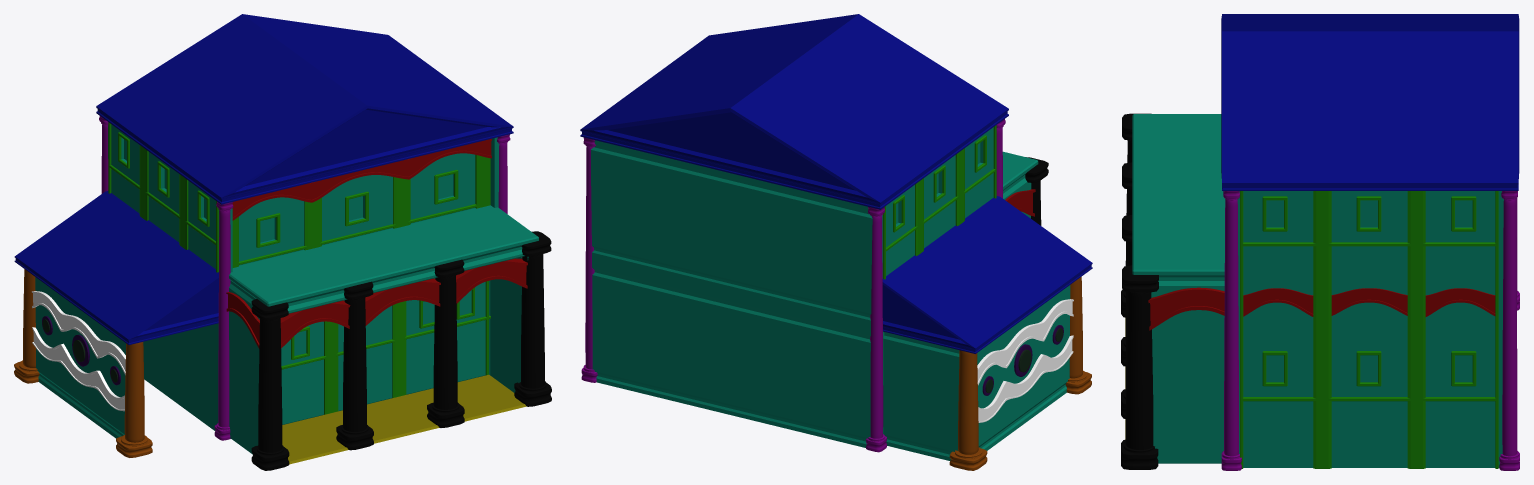
File: Textured Roman Building.fbx
The picture shows the model from 3 angles, left to right: view 1: azimuth 30°, elevation 25°; view 2: azimuth 150°, elevation 25°; view 3: azimuth 270°, elevation 25°; orthographic projection. The views are drawn at different scales.
Parts seen in each view (by area): view 1: pCube115, Temple_Top_Asset:pCube1, pCube1, Colomns, pPlane1, pCube63, pCube12, pCube104, pCube114, pCube106, pCube103, pCube13 (+3 smaller); view 2: pCube115, Temple_Top_Asset:pCube1, pCube1, pCube114, pCube106, pCube103, pCube107, Colomns; view 3: pCube115, Temple_Top_Asset:pCube1, pCube111, pCube114, Colomns, pCube87, pCube116, pCube14.
Part boxes in pixels (bbox=[...]): pCube115: bbox=[35, 124, 538, 454]; Temple_Top_Asset:pCube1: bbox=[96, 14, 513, 204]; pCube1: bbox=[14, 191, 218, 344]; Colomns: bbox=[251, 231, 551, 470]; pPlane1: bbox=[282, 374, 526, 464]; pCube63: bbox=[232, 155, 490, 267]; pCube12: bbox=[280, 258, 527, 348]; pCube104: bbox=[281, 281, 490, 414]; pCube114: bbox=[99, 116, 510, 440]; pCube106: bbox=[14, 269, 152, 457]; pCube103: bbox=[31, 291, 125, 411]; pCube13: bbox=[232, 139, 491, 220]; pCube115: bbox=[591, 127, 1070, 460]; Temple_Top_Asset:pCube1: bbox=[580, 14, 1008, 209]; pCube1: bbox=[882, 196, 1092, 353]; pCube114: bbox=[581, 119, 1005, 452]; pCube106: bbox=[949, 277, 1091, 470]; pCube103: bbox=[977, 299, 1073, 422]; pCube107: bbox=[883, 125, 996, 279]; Colomns: bbox=[1025, 157, 1048, 225]; pCube115: bbox=[1132, 114, 1503, 467]; Temple_Top_Asset:pCube1: bbox=[1221, 14, 1519, 190]; pCube111: bbox=[1240, 191, 1498, 468]; pCube114: bbox=[1221, 191, 1519, 470]; Colomns: bbox=[1121, 113, 1158, 469]; pCube87: bbox=[1243, 288, 1495, 316]; pCube116: bbox=[1148, 287, 1224, 330]; pCube14: bbox=[1266, 200, 1472, 227].
Size of the model in its own units: 46.21 by 34.86 by 35.43.
